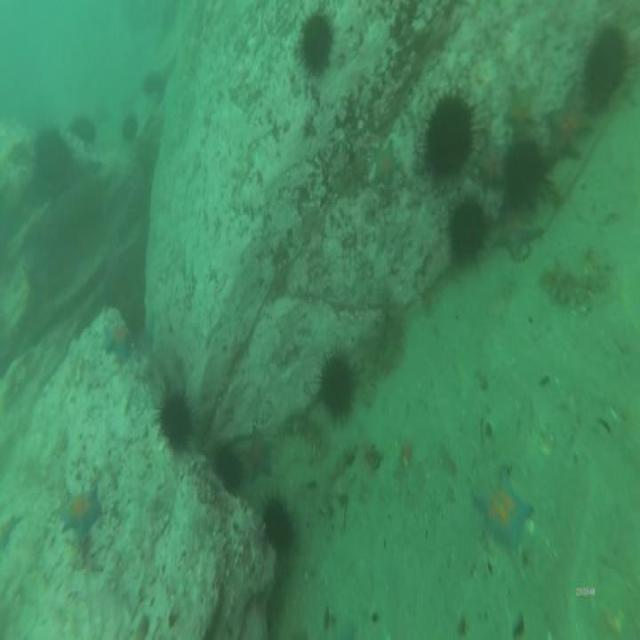echinus: (427, 100, 473, 177), (588, 30, 628, 103), (449, 202, 485, 264), (319, 358, 356, 416), (302, 17, 334, 71), (36, 133, 66, 180), (268, 503, 294, 553), (214, 449, 243, 493), (160, 397, 188, 442), (72, 115, 96, 144), (122, 110, 137, 138), (143, 68, 161, 87)
holothurian: (543, 262, 594, 310), (282, 417, 322, 458)
starfish: (478, 469, 532, 548), (550, 98, 590, 160), (494, 213, 540, 261), (58, 493, 101, 528), (476, 138, 506, 188), (245, 432, 273, 478), (506, 84, 533, 131), (102, 321, 132, 360), (376, 147, 398, 186)
